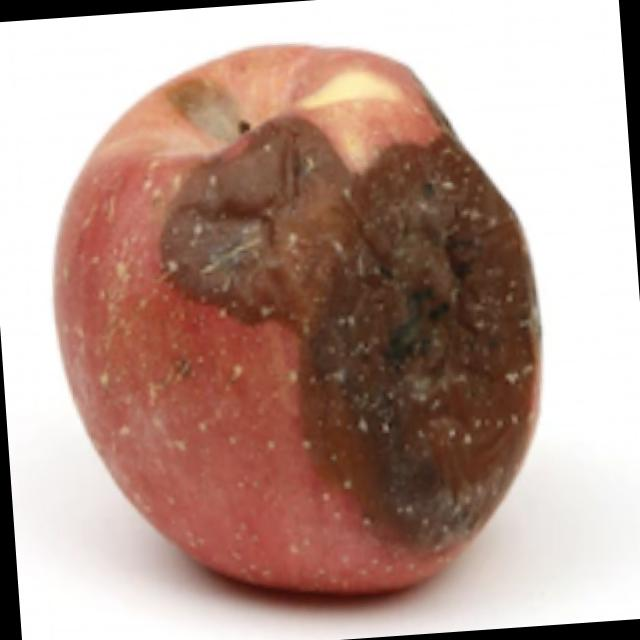rotten_apple: (41, 26, 556, 610)
